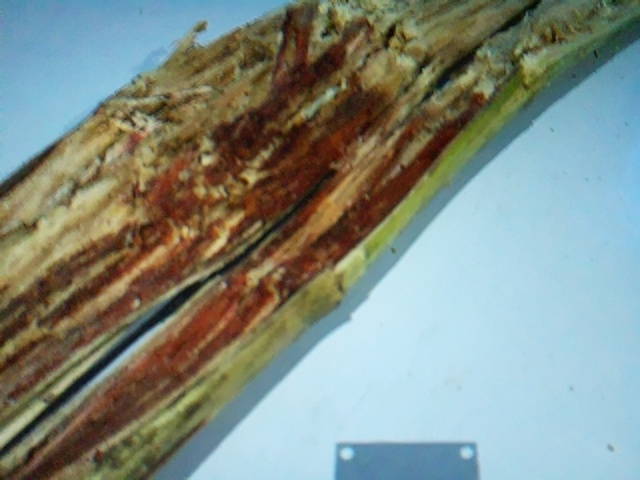Red-Rot: (1, 5, 519, 480)
